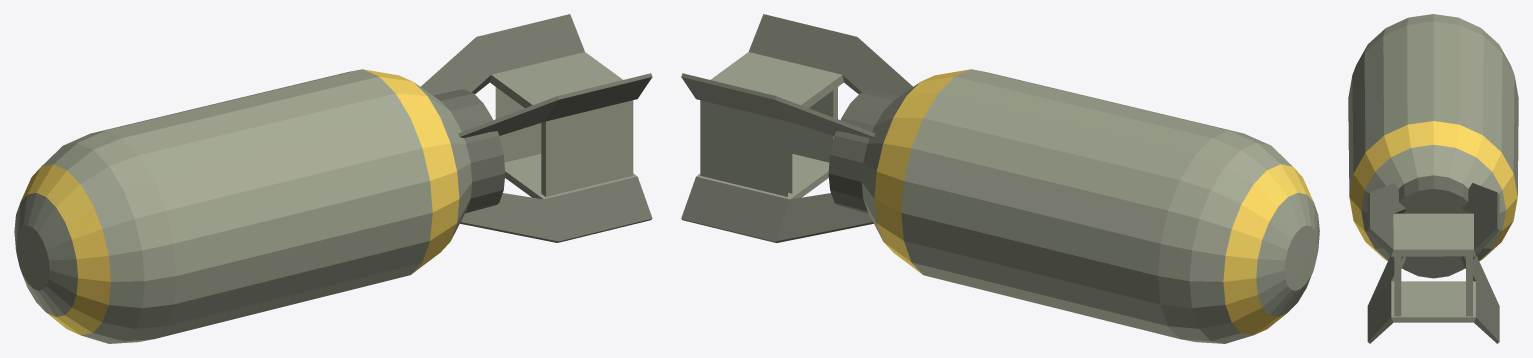
The model's file is SM_AtomBomb_01.fbx.
3 views of the same model, side by side, from view 1: azimuth 30°, elevation 25°; view 2: azimuth 150°, elevation 25°; view 3: azimuth 270°, elevation 25° (orthographic). The views are drawn at different scales.
Parts seen in each view (by area): view 1: SM_AtomBomb_01; view 2: SM_AtomBomb_01; view 3: SM_AtomBomb_01.
Part boxes in pixels (box(x1,y1,x2,y2)): SM_AtomBomb_01: box(14, 14, 652, 343); SM_AtomBomb_01: box(681, 14, 1319, 343); SM_AtomBomb_01: box(1348, 14, 1518, 343).
Size of the model in its own units: 42.72 by 13.88 by 13.88.
Materials: 1 (1 with a texture image).
